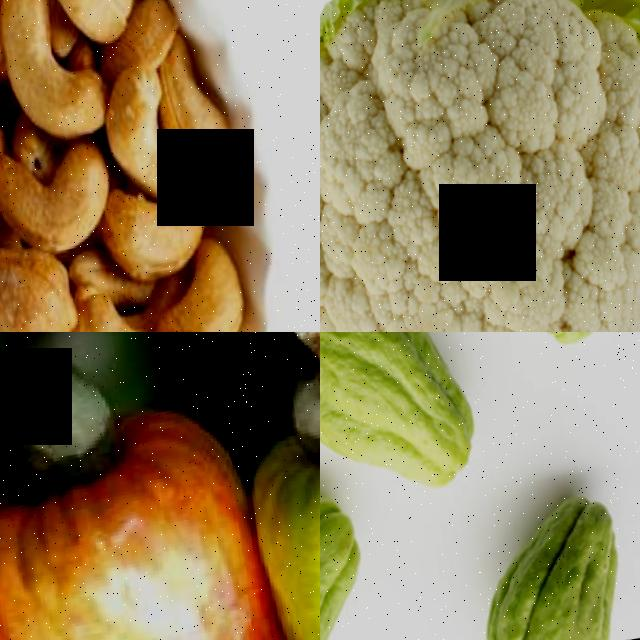cashew: (0, 332, 182, 509), (0, 105, 145, 267), (94, 43, 225, 215), (0, 0, 88, 175), (0, 233, 119, 332), (101, 261, 260, 332), (31, 0, 130, 49)
cauliflower: (320, 0, 640, 332)
chayote: (429, 419, 640, 640), (320, 332, 550, 517), (320, 472, 438, 640)
